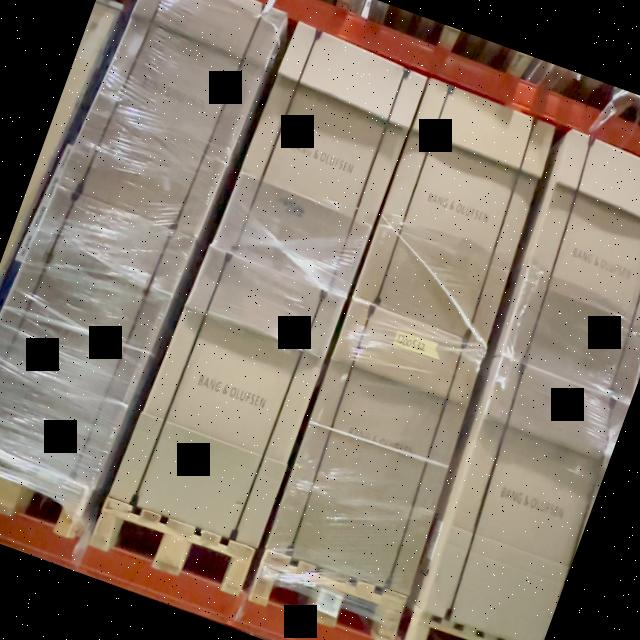box: (110, 241, 344, 556), (265, 299, 487, 600), (0, 186, 195, 491), (215, 22, 427, 300), (352, 78, 557, 349), (57, 0, 286, 242), (498, 129, 640, 401)
